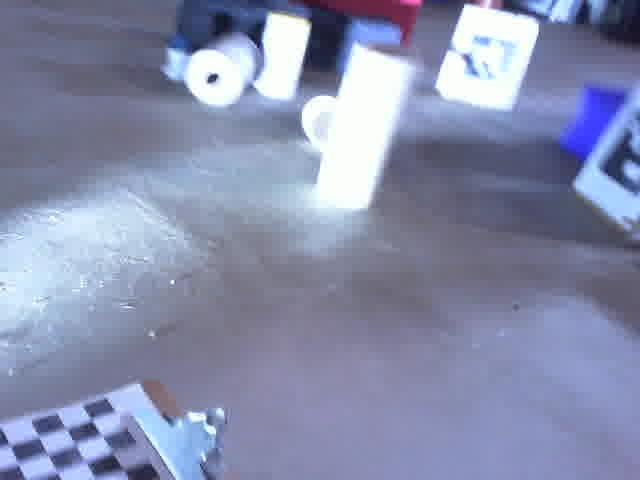coral: (315, 42, 426, 209), (294, 90, 339, 154)
